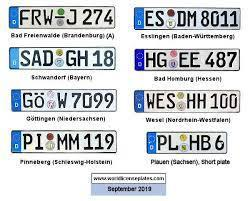0: (82, 92, 92, 108), (229, 93, 238, 109), (220, 93, 229, 109), (211, 10, 220, 26)
1: (94, 134, 105, 151), (84, 133, 94, 150), (93, 50, 103, 67), (210, 92, 219, 109), (230, 11, 239, 27), (221, 10, 229, 26)
2: (82, 9, 93, 25)
4: (104, 9, 115, 25), (205, 52, 216, 67)
6: (214, 134, 225, 150)
7: (71, 92, 82, 109), (93, 8, 104, 25), (228, 51, 239, 68), (93, 8, 103, 25)
8: (103, 50, 115, 68), (200, 10, 211, 26), (216, 51, 226, 68)
9: (104, 92, 115, 109), (104, 134, 115, 150), (94, 92, 104, 109)
A: (32, 51, 41, 68)
B: (201, 134, 213, 150)
D: (42, 50, 53, 66), (176, 10, 186, 26)
E: (190, 51, 201, 67), (155, 92, 165, 109), (180, 51, 190, 68), (145, 11, 154, 27)
F: (19, 9, 29, 27)
G: (66, 51, 78, 67), (156, 51, 168, 67), (22, 92, 33, 108)
H: (77, 51, 89, 68), (189, 135, 200, 151), (145, 52, 156, 68), (186, 93, 196, 110), (196, 93, 206, 110)
I: (35, 133, 44, 151)
J: (67, 8, 78, 26)
L: (169, 135, 179, 151)
M: (68, 134, 80, 151), (56, 134, 68, 151), (187, 10, 197, 27)
P: (22, 133, 33, 151), (156, 134, 167, 151)
R: (31, 9, 42, 26)
S: (19, 51, 31, 68), (165, 92, 176, 109), (155, 10, 164, 27)
W: (57, 92, 67, 110), (146, 92, 155, 110), (43, 10, 53, 26)
oe: (34, 92, 46, 109)
